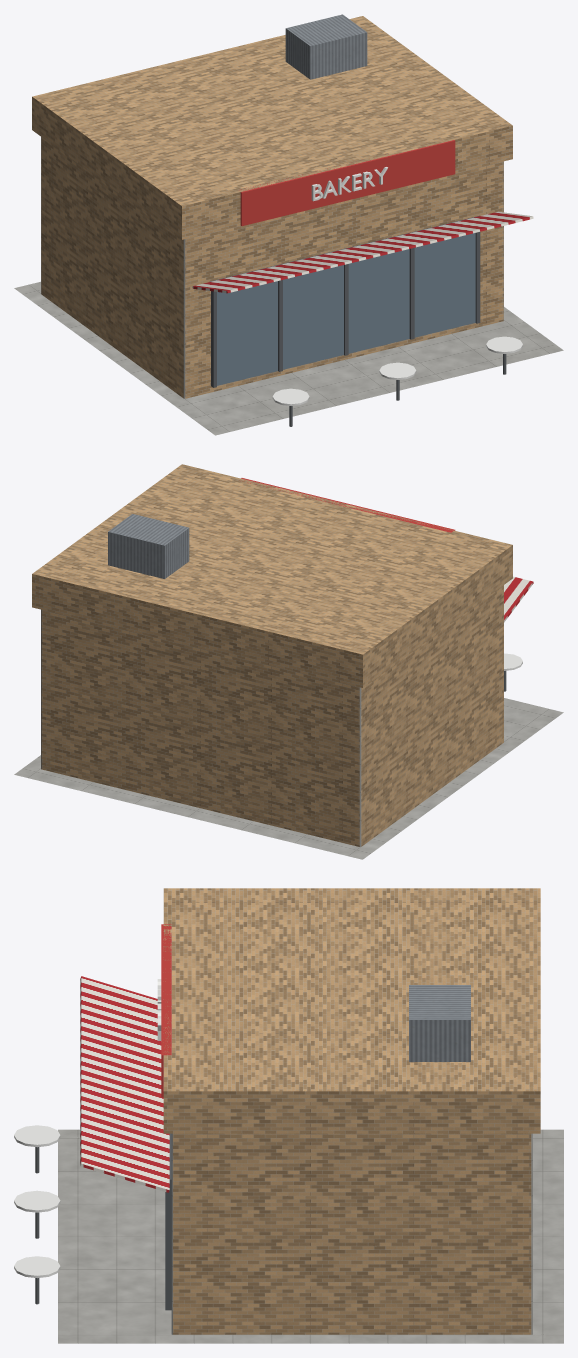
Rendered from shop_2.gltf.
The picture shows the model from 3 angles, top to bottom: view 1: azimuth 30°, elevation 25°; view 2: azimuth 150°, elevation 25°; view 3: azimuth 270°, elevation 25°; orthographic projection. The views are drawn at different scales.
Parts seen in each view (by area): view 1: shop_2; view 2: shop_2; view 3: shop_2.
Part boxes in pixels (<box>): shop_2: <box>14,14,563,435</box>; shop_2: <box>14,464,563,859</box>; shop_2: <box>14,888,563,1343</box>.
Bounding box in the file's own units: 1.96 × 1.24 × 2.13.
Materials: 9 (4 with a texture image).
